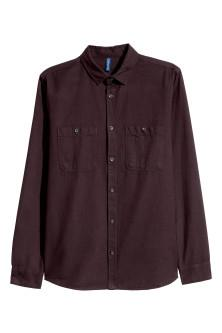teeshirt: (6, 46, 217, 293)
